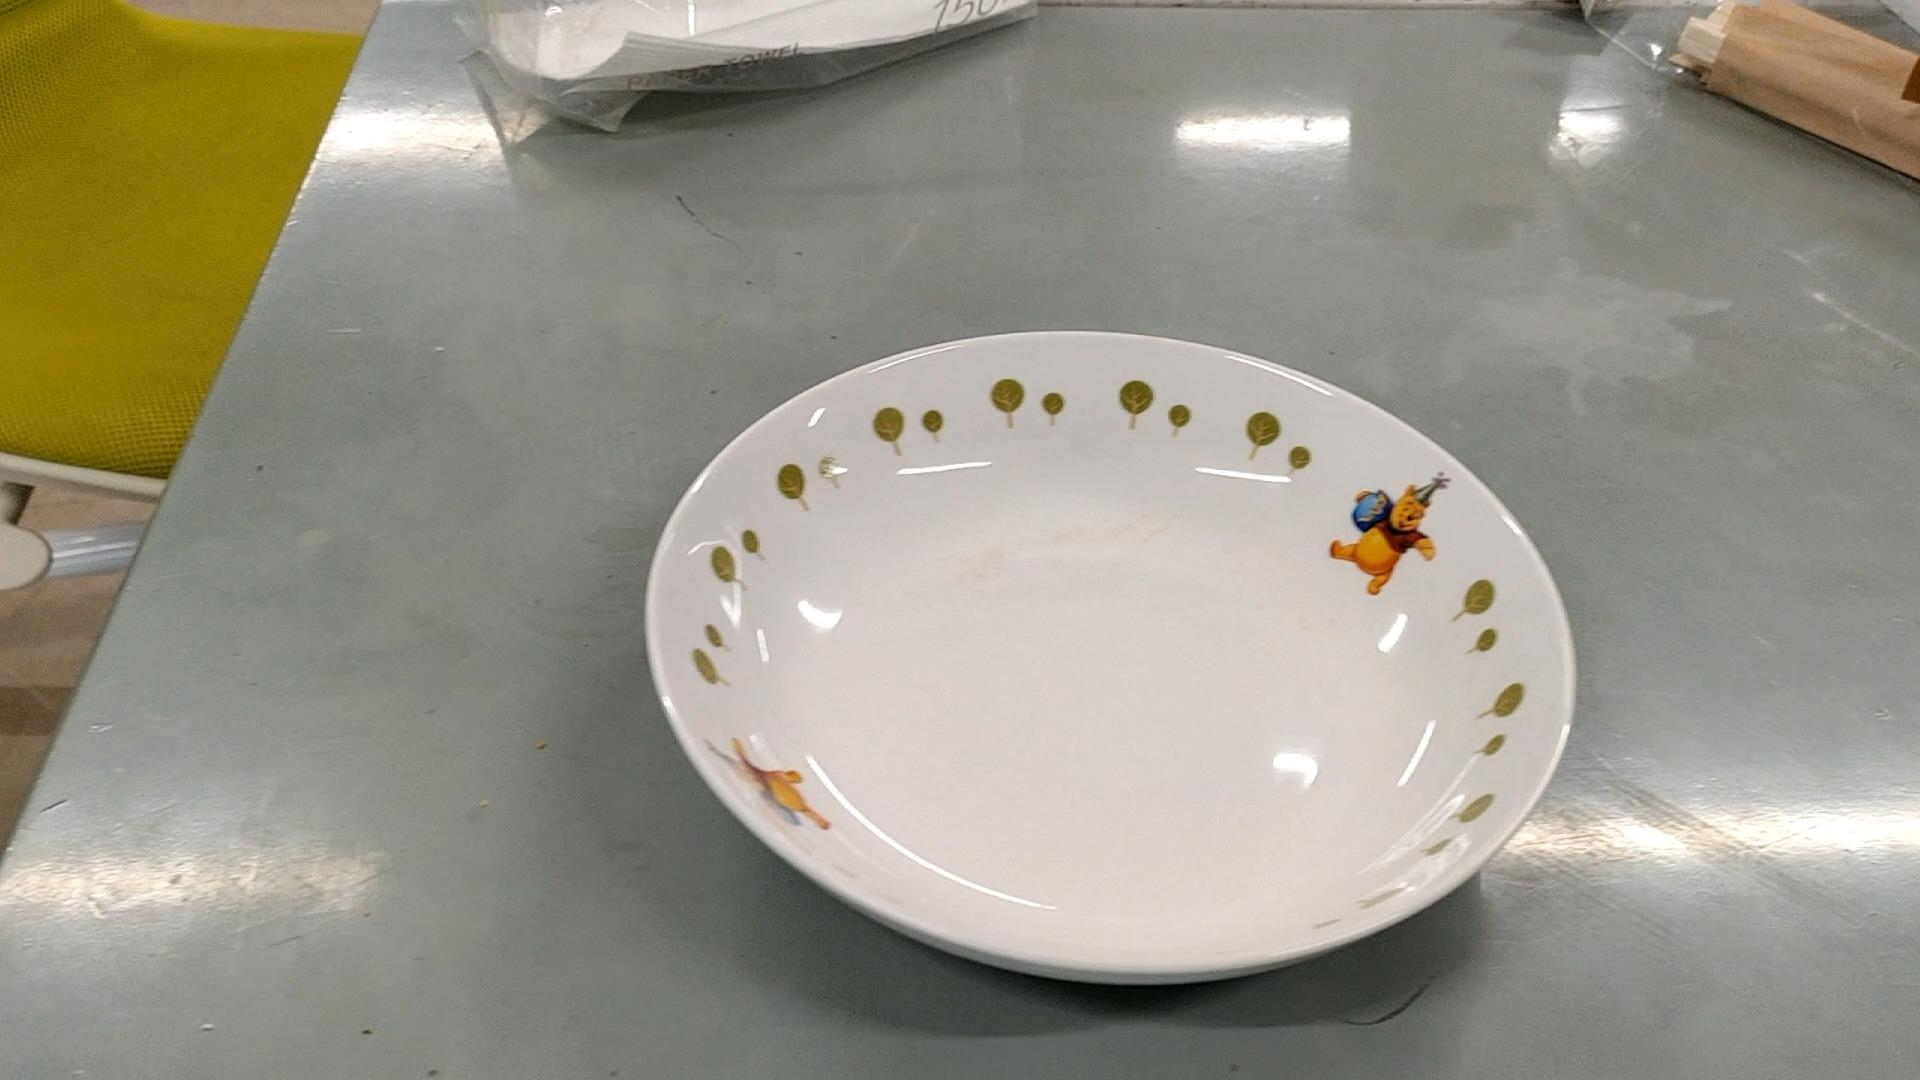plate: (646, 334, 1575, 988)
